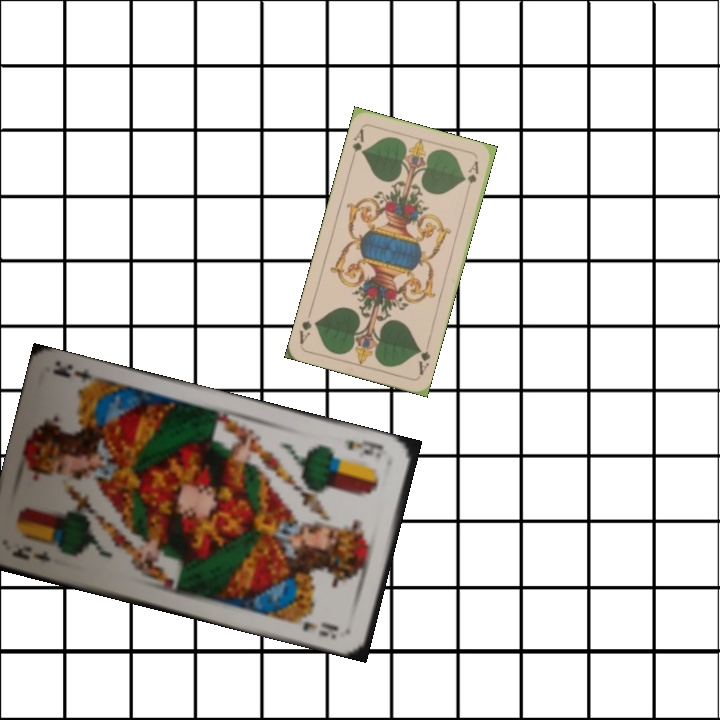EK: (8, 542, 55, 565), (340, 436, 386, 458)
GA: (347, 125, 367, 164), (414, 338, 433, 378)
